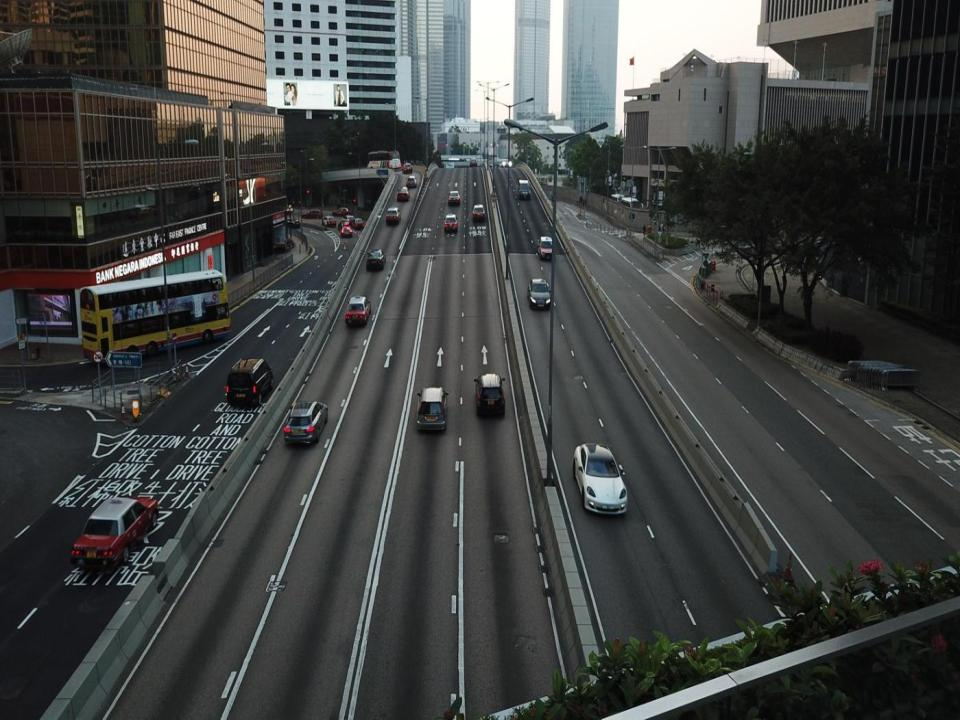bus: (79, 268, 230, 364), (366, 150, 401, 171), (621, 196, 643, 215), (611, 194, 625, 208), (342, 190, 348, 202), (446, 162, 454, 171)
car: (73, 494, 158, 565), (575, 444, 628, 518), (226, 358, 274, 406), (284, 402, 328, 442), (418, 386, 448, 430), (475, 372, 504, 413), (345, 296, 371, 325), (528, 279, 551, 309), (537, 236, 554, 260), (366, 250, 386, 268), (444, 214, 458, 232), (387, 207, 401, 224), (303, 209, 323, 220), (332, 207, 352, 218), (473, 205, 486, 220), (287, 216, 300, 229), (396, 187, 409, 200), (449, 191, 460, 206), (341, 224, 352, 238), (406, 176, 418, 188), (323, 216, 336, 226), (281, 238, 294, 248), (353, 219, 364, 229), (338, 220, 350, 229), (346, 214, 354, 224), (404, 164, 412, 174), (365, 199, 374, 207), (502, 158, 511, 166), (286, 204, 292, 213), (470, 158, 476, 165)
truck: (448, 157, 466, 164)
van: (518, 180, 530, 198)
